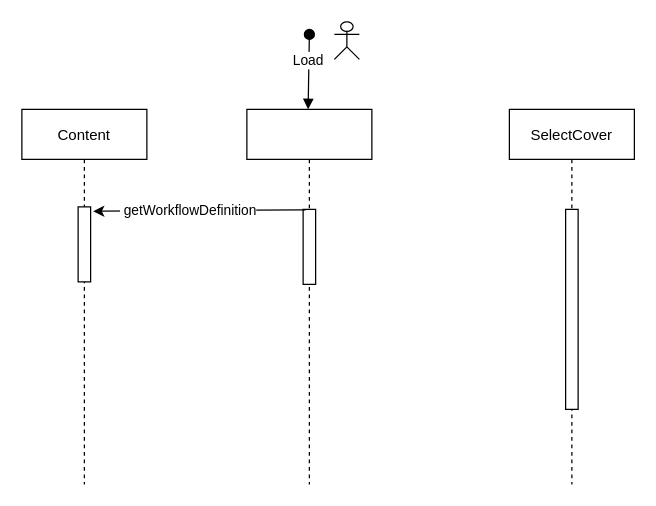
The diagram is 656 pixels wide and 506 high, and some of its shapes have lost their labels. Here are the shapes that lost their labels. From the top down, the centre of each, then its label:
At pixel 346 40: "User".
At pixel 309 296: "Container".
